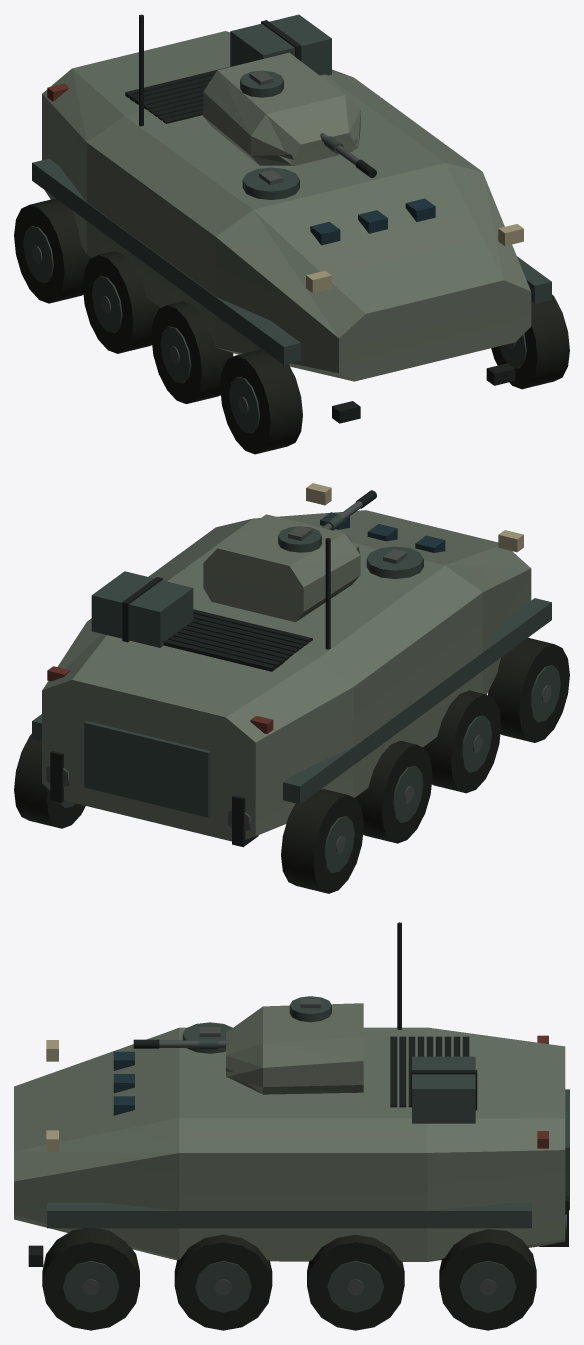
File: apc-lod.glb
3 views of the same model, one above another, from view 1: azimuth 30°, elevation 25°; view 2: azimuth 150°, elevation 25°; view 3: azimuth 270°, elevation 25° (orthographic). The views are drawn at different scales.
Parts seen in each view (by area): view 1: equipment (×3); view 2: equipment (×3); view 3: equipment (×3).
Boxes of the visible parts, x1,y1,x2,y2 form: equipment (×3): [14, 14, 569, 454]; equipment (×3): [14, 483, 569, 893]; equipment (×3): [14, 922, 569, 1330].
Bounding box in the file's own units: 3.19 × 3.05 × 5.24.
